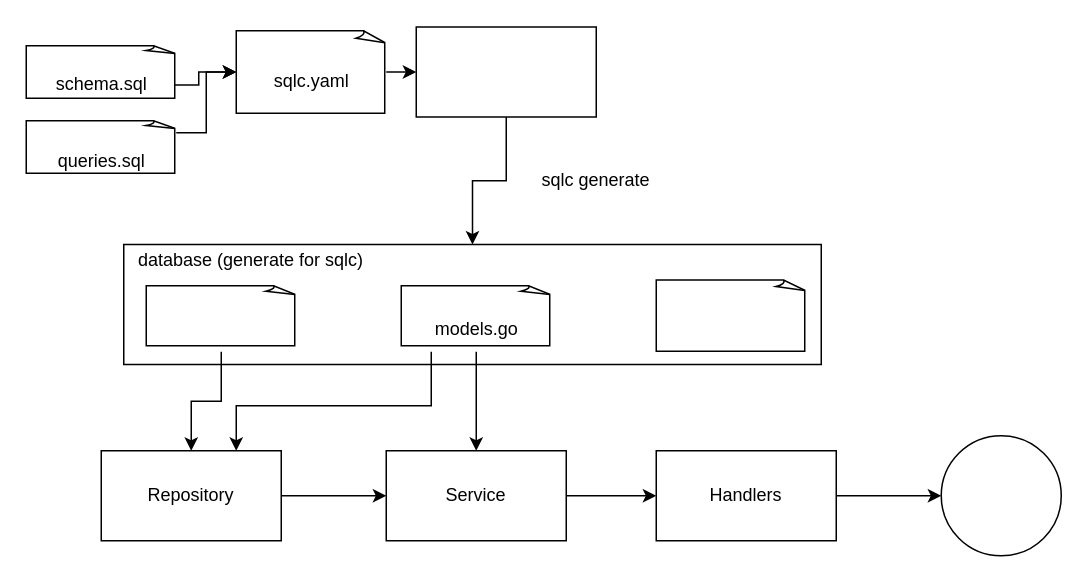
The diagram is 1088 pixels wide and 582 high, and some of its shapes have lost their labels. The box of each missing label's shape, as (x1, y1, x2, y2) in pixels:
db.go: (655, 279, 806, 351)
Endpoint: (940, 434, 1061, 556)
queries.sql.go: (145, 284, 296, 346)
SQLc: (415, 26, 596, 117)
